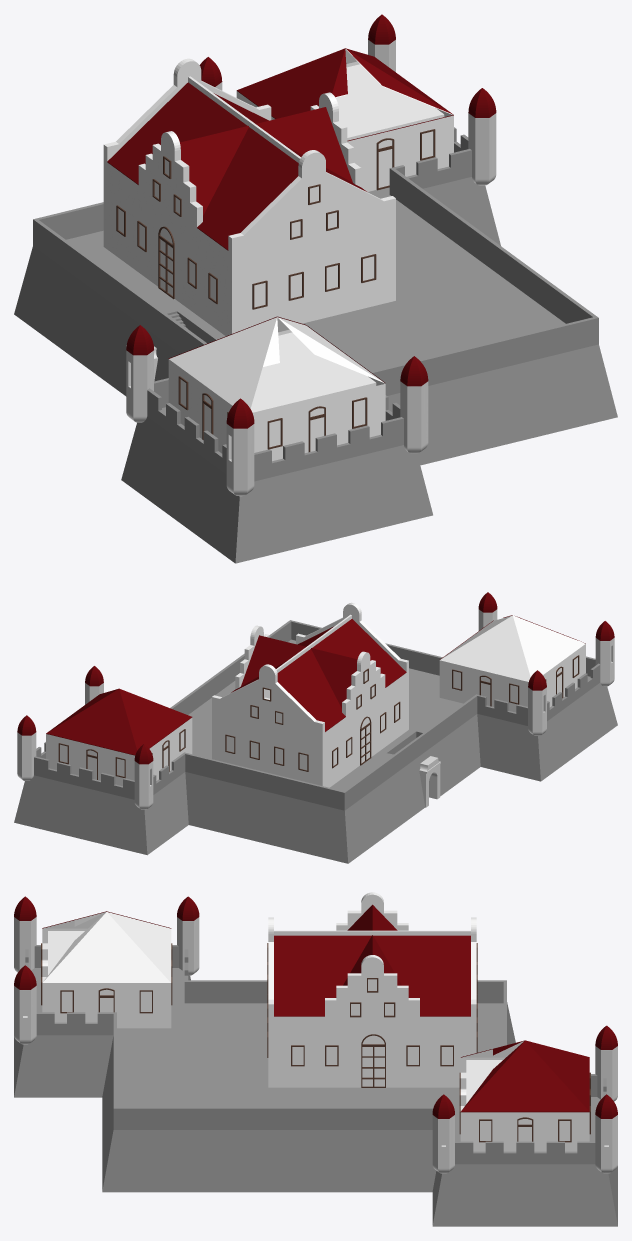
The model's file is fort_4.glb.
The picture shows the model from 3 angles, top to bottom: view 1: azimuth 30°, elevation 25°; view 2: azimuth 150°, elevation 25°; view 3: azimuth 270°, elevation 25°; orthographic projection. The views are drawn at different scales.
Parts seen in each view (by area): view 1: object_7, object_33, object_157, object_30, object_19, object_3, object_31, object_6, object_5, object_156, object_9, object_8 (+2 smaller); view 2: object_7, object_33, object_30, object_156, object_19, object_3, object_6, object_31, object_5, object_157, object_13, object_10 (+3 smaller); view 3: object_7, object_19, object_33, object_5, object_30, object_6, object_31, object_12, object_8, object_11, object_10, object_13 (+5 smaller).
Boxes of the visible parts, x1=… form: object_7: x1=14, y1=177, x2=617, y2=563; object_33: x1=33, y1=127, x2=598, y2=481; object_157: x1=228, y1=150, x2=395, y2=335; object_30: x1=168, y1=317, x2=385, y2=461; object_19: x1=107, y1=76, x2=361, y2=335; object_3: x1=107, y1=82, x2=298, y2=250; object_31: x1=236, y1=49, x2=453, y2=191; object_6: x1=236, y1=48, x2=453, y2=141; object_5: x1=214, y1=93, x2=366, y2=191; object_156: x1=103, y1=58, x2=271, y2=248; object_9: x1=226, y1=424, x2=254, y2=496; object_8: x1=400, y1=381, x2=428, y2=453; object_7: x1=14, y1=639, x2=617, y2=863; object_33: x1=34, y1=620, x2=600, y2=810; object_30: x1=439, y1=615, x2=585, y2=712; object_156: x1=212, y1=664, x2=324, y2=786; object_19: x1=235, y1=614, x2=406, y2=787; object_3: x1=277, y1=619, x2=406, y2=731; object_6: x1=46, y1=688, x2=192, y2=755; object_31: x1=46, y1=718, x2=192, y2=785; object_5: x1=231, y1=626, x2=333, y2=692; object_157: x1=296, y1=602, x2=408, y2=730; object_13: x1=134, y1=761, x2=153, y2=809; object_10: x1=528, y1=687, x2=546, y2=735; object_7: x1=14, y1=968, x2=617, y2=1226; object_19: x1=274, y1=892, x2=470, y2=1087; object_33: x1=25, y1=945, x2=606, y2=1164; object_5: x1=274, y1=935, x2=470, y2=1016; object_30: x1=42, y1=912, x2=171, y2=1028; object_6: x1=461, y1=1040, x2=589, y2=1112; object_31: x1=460, y1=1041, x2=589, y2=1151; object_12: x1=595, y1=1115, x2=617, y2=1173; object_8: x1=14, y1=986, x2=36, y2=1044; object_11: x1=432, y1=1115, x2=454, y2=1173; object_10: x1=177, y1=917, x2=199, y2=975; object_13: x1=595, y1=1046, x2=617, y2=1101.
Size of the model in its own units: 43.4 by 18.89 by 53.4.
